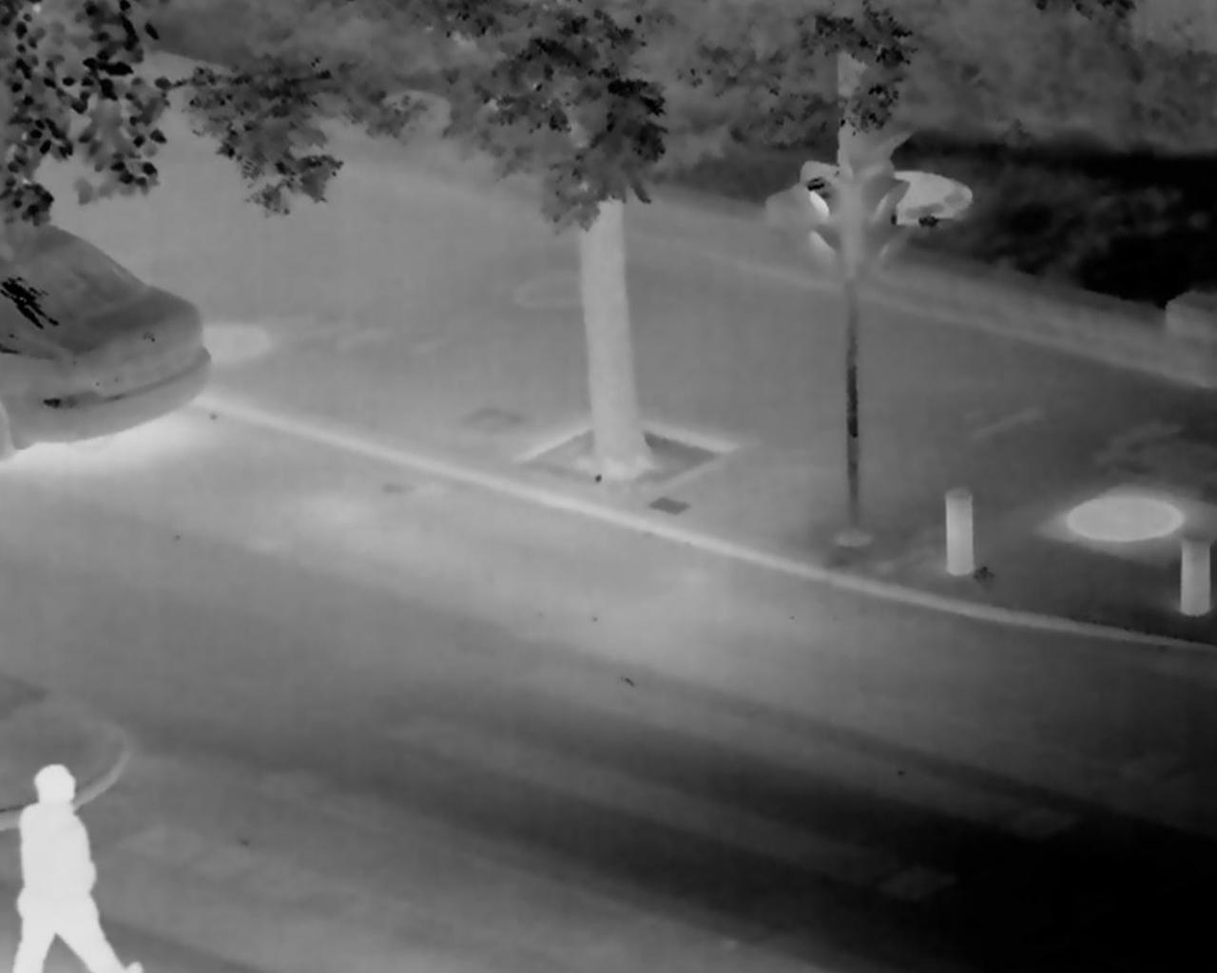person: (19, 753, 145, 973)
